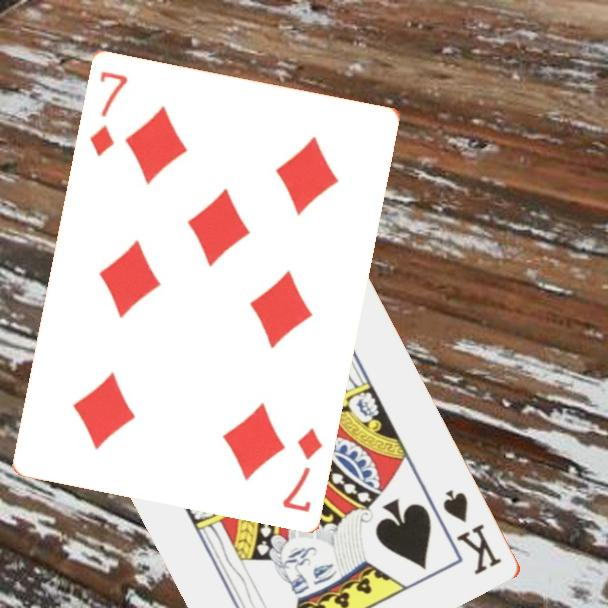d07: (278, 423, 325, 514), (85, 67, 130, 158)
s13: (440, 486, 505, 579)
